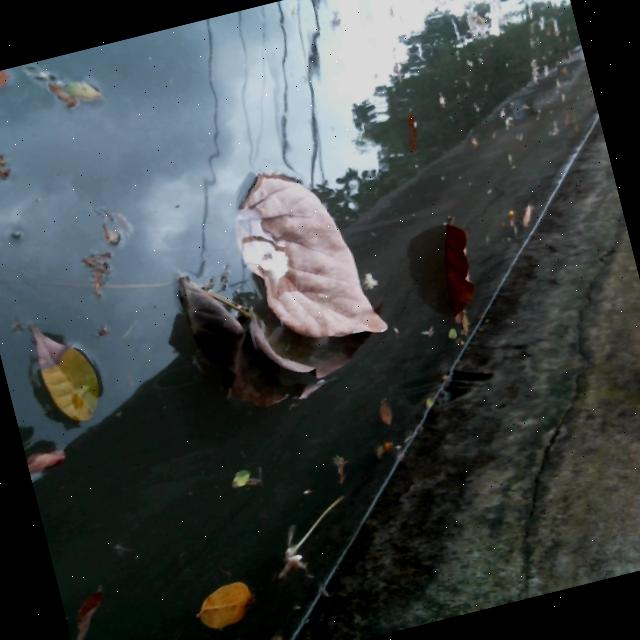Big-leaf: (147, 146, 416, 435), (422, 211, 497, 339)
Small-leaf: (20, 314, 110, 436), (184, 573, 264, 640), (35, 54, 107, 114), (59, 579, 124, 640), (372, 391, 404, 431), (0, 67, 23, 98)
